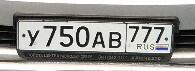license-plateSW: (15, 19, 172, 54)
